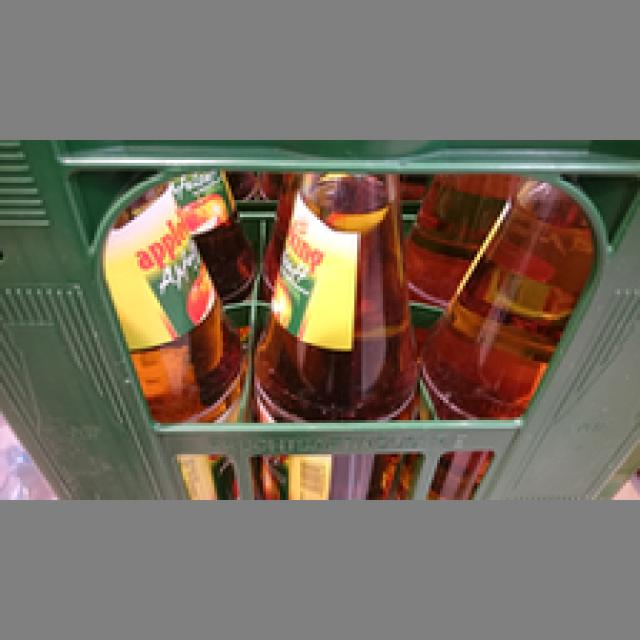groceries: (403, 177, 588, 492), (66, 169, 240, 494), (249, 168, 417, 492)
